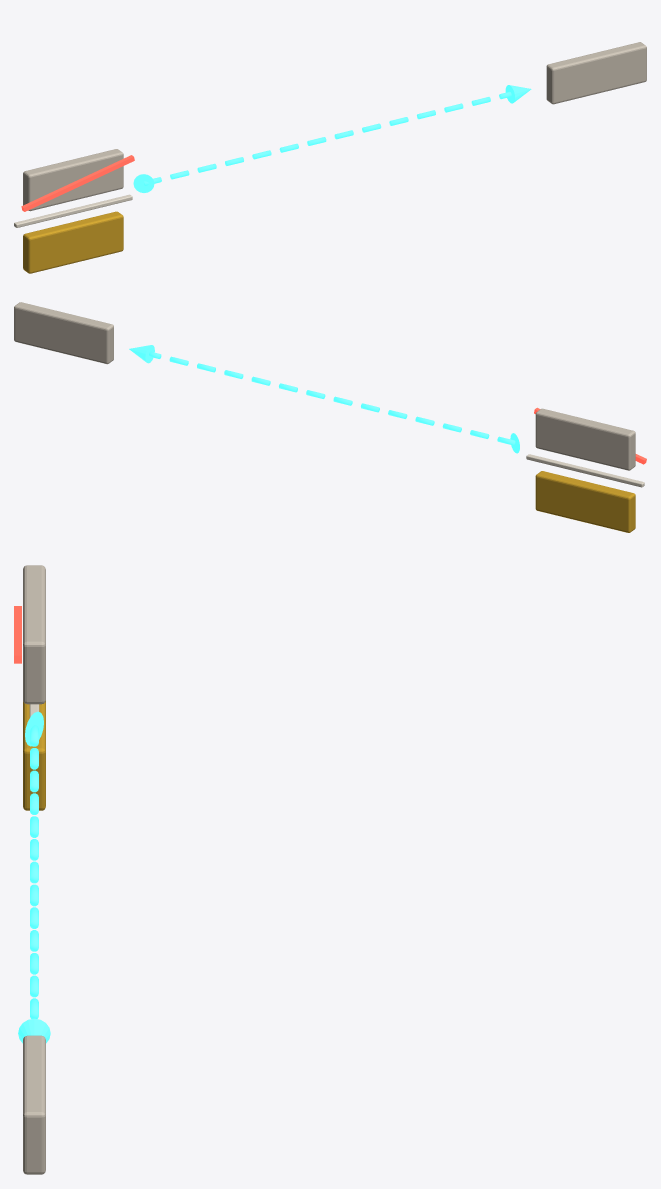
Rendered from sustitucion.glb.
The picture shows the model from 3 angles, top to bottom: view 1: azimuth 30°, elevation 25°; view 2: azimuth 150°, elevation 25°; view 3: azimuth 270°, elevation 25°; orthographic projection. The views are drawn at different scales.
Visible parts, largest first — view 1: snte1_tablilla, sdo, snte, flecha_plana_guiones, tachadura, barra; view 2: snte, sdo, snte1_tablilla, flecha_plana_guiones, barra; view 3: snte, snte1_tablilla, flecha_plana_guiones, sdo.
Boxes of the visible parts, x1=… form: snte1_tablilla: x1=546, y1=42, x2=646, y2=104; sdo: x1=23, y1=211, x2=123, y2=273; snte: x1=23, y1=149, x2=123, y2=211; flecha_plana_guiones: x1=144, y1=91, x2=511, y2=186; tachadura: x1=21, y1=155, x2=134, y2=211; barra: x1=14, y1=194, x2=132, y2=227; snte: x1=535, y1=408, x2=635, y2=470; sdo: x1=535, y1=471, x2=635, y2=532; snte1_tablilla: x1=14, y1=302, x2=113, y2=364; flecha_plana_guiones: x1=149, y1=351, x2=515, y2=445; barra: x1=526, y1=454, x2=644, y2=487; snte: x1=23, y1=565, x2=45, y2=704; snte1_tablilla: x1=23, y1=1035, x2=45, y2=1174; flecha_plana_guiones: x1=30, y1=725, x2=38, y2=1018; sdo: x1=23, y1=700, x2=45, y2=810.
Size of the model in its own units: 7.58 by 1.14 by 3.88.
